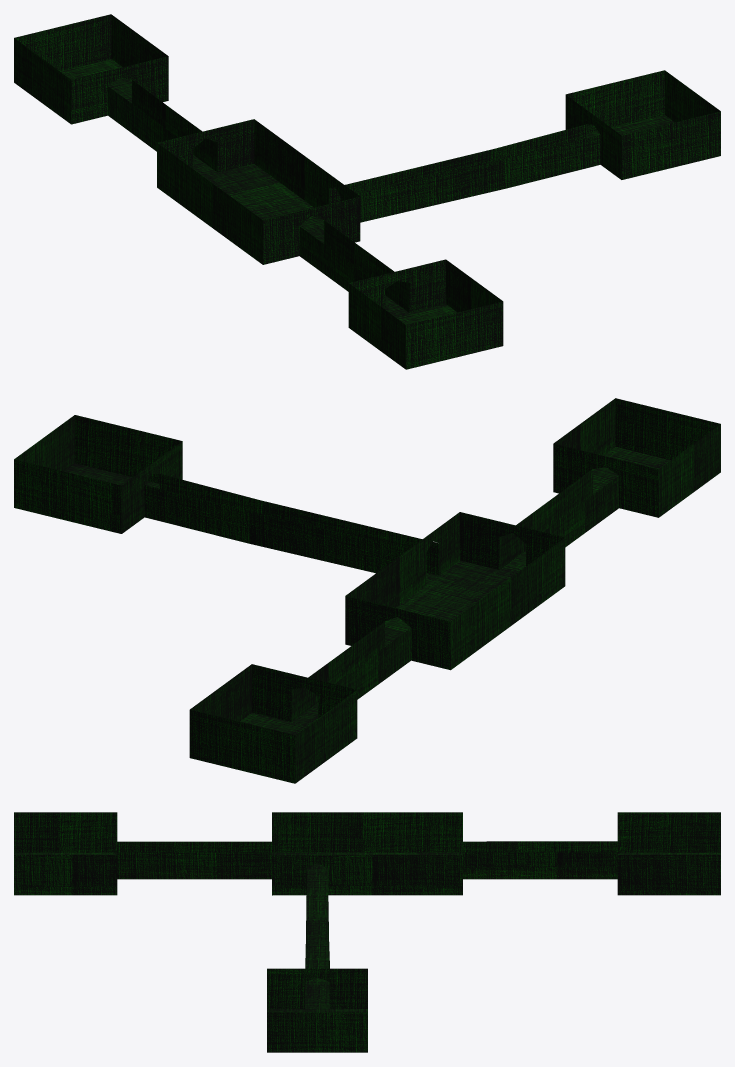
Rendered from Map_2.fbx.
3 views of the same model, one above another, from view 1: azimuth 30°, elevation 25°; view 2: azimuth 150°, elevation 25°; view 3: azimuth 270°, elevation 25° (orthographic). The views are drawn at different scales.
Visible parts, largest first — view 1: pCube10; view 2: pCube10; view 3: pCube10.
Part boxes in pixels (<box>): pCube10: <box>14,14,720,369</box>; pCube10: <box>14,398,720,783</box>; pCube10: <box>14,812,720,1052</box>.
Bounding box in the file's own units: 380 × 36.71 × 568.
